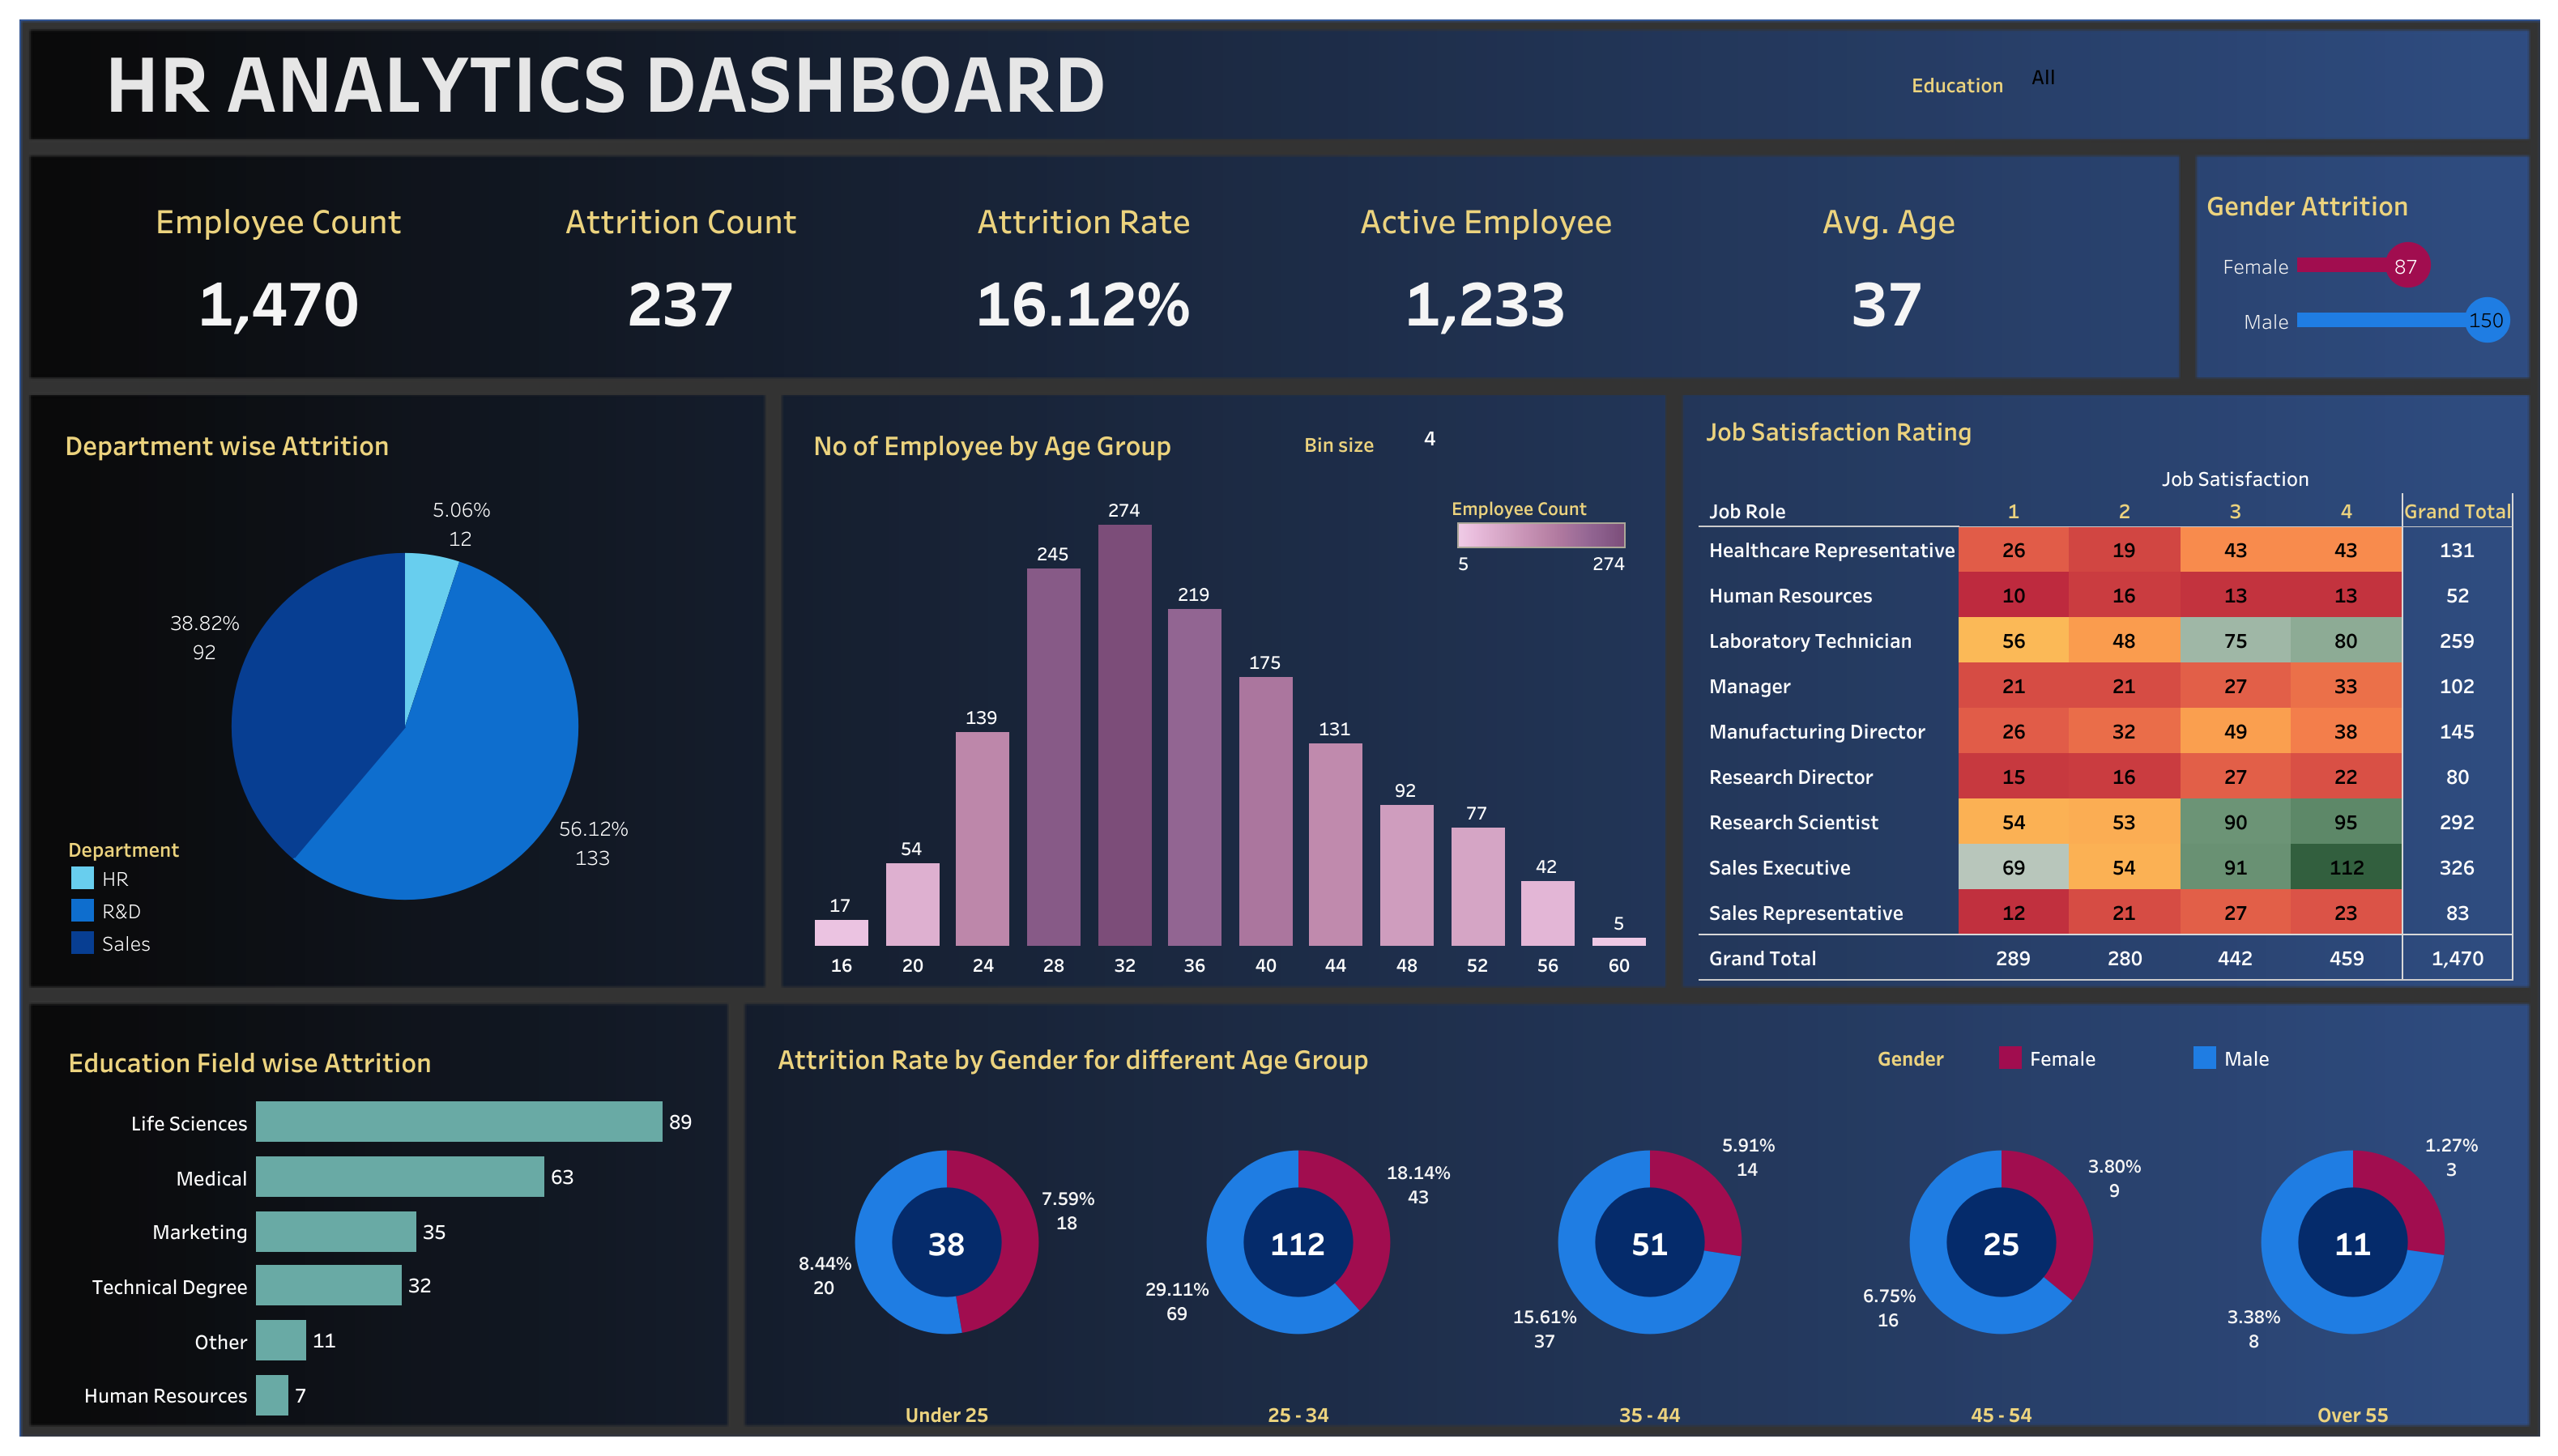

Layout of this report page (visuals, bound fields, positions):
{"tool":"tableau","page":{"name":"HR Analytics Dashboard","canvas":[1580,900],"ordinal":0},"visuals":[{"type":"image","param":"/Users/romejavalerija/Desktop/HR background.pptx.png","box":[8,8,1564,884]},{"type":"text","box":[25,14,1039,55]},{"type":"filter","title":"Department wise Attrition","param":"[federated.1nfxag61a20s211dwjdo21cimyji].[none:Education:nk]","box":[898,39,372,27]},{"type":"worksheet","title":"KPI","mark":"Automatic","box":[52,78,1057,112]},{"type":"worksheet","title":"Gender Attrition ","mark":"Automatic","rows":["Gender"],"cols":["Calculation_1217871865367797760","Calculation_1217871865367797760"],"box":[1118,87,166,105]},{"type":"worksheet","title":"Department wise Attrition","mark":"Pie","box":[31,211,355,291]},{"type":"worksheet","title":"No of Employee by Age Group","mark":"Automatic","rows":["Employee Count"],"cols":["Age (bin)"],"box":[407,211,439,288]},{"type":"worksheet","title":"Job Satisfaction Rating","mark":"Square","rows":["Job Role"],"cols":["Job Satisfaction"],"box":[866,214,419,284]},{"type":"parameter","param":"[Parameters].[Parameter 1]","box":[662,217,184,26]},{"type":"legend","title":"No of Employee by Age Group","param":"[federated.1nfxag61a20s211dwjdo21cimyji].[sum:Employee Count:qk]","box":[730,255,112,52]},{"type":"legend","title":"Department wise Attrition","param":"[federated.1nfxag61a20s211dwjdo21cimyji].[none:Department:nk]","box":[25,412,140,78]},{"type":"worksheet","title":"Education Field wise Attrition","mark":"Automatic","rows":["Education Field"],"cols":["Calculation_1217871865367797760"],"box":[32,514,340,208]},{"type":"worksheet","title":"Attrition Rate by Gender for different Age Group","mark":"Pie","rows":["Calculation_1217871865713926157","Calculation_1217871865713926157"],"cols":["CF_age band"],"box":[385,526,894,199]},{"type":"legend","title":"Attrition Rate by Gender for different Age Group","param":"[federated.1nfxag61a20s211dwjdo21cimyji].[none:Gender:nk]","box":[960,530,306,25]}]}

Visuals, with their boxes in screenshot pixels (x1, y1, x2, y2), scaled from the page's 1580x900 canvas onto the 2558x1456 screenshot:
image: crop(13, 13, 2545, 1443)
text: crop(41, 23, 1723, 112)
"Department wise Attrition" filter: crop(1454, 63, 2056, 107)
"KPI" worksheet: crop(84, 126, 1796, 308)
"Gender Attrition " worksheet: crop(1810, 141, 2078, 311)
"Department wise Attrition" worksheet (Pie marks): crop(50, 342, 625, 812)
"No of Employee by Age Group" worksheet: crop(659, 342, 1370, 807)
"Job Satisfaction Rating" worksheet (Square marks): crop(1402, 347, 2080, 806)
parameter: crop(1072, 351, 1370, 393)
"No of Employee by Age Group" legend: crop(1182, 412, 1363, 496)
"Department wise Attrition" legend: crop(41, 666, 267, 793)
"Education Field wise Attrition" worksheet: crop(52, 832, 603, 1168)
"Attrition Rate by Gender for different Age Group" worksheet (Pie marks): crop(624, 851, 2070, 1173)
"Attrition Rate by Gender for different Age Group" legend: crop(1554, 858, 2049, 898)
